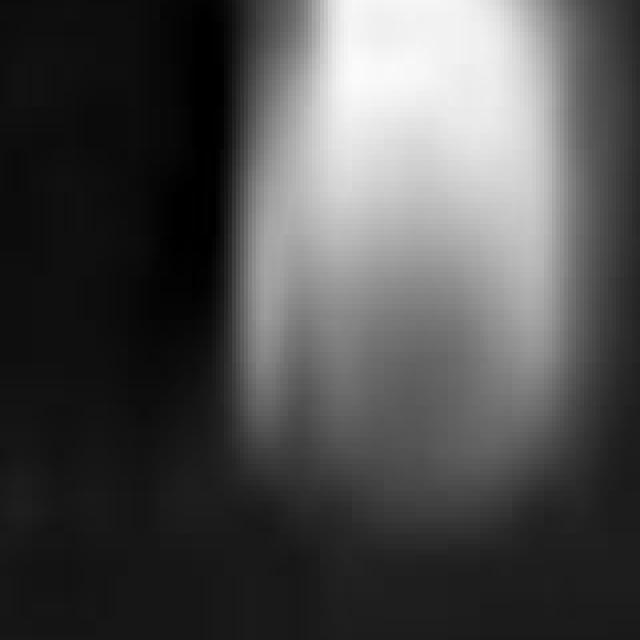person: (189, 1, 573, 534)
